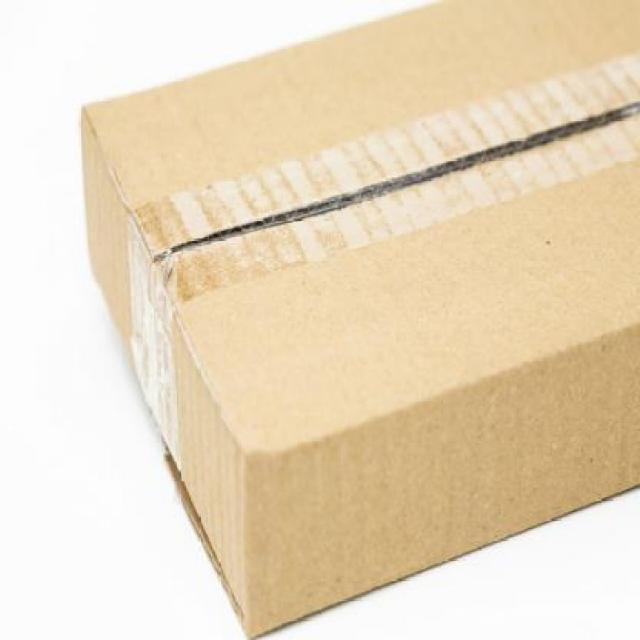box: (82, 0, 640, 640)
